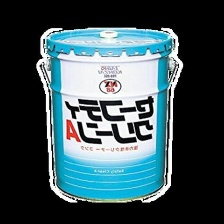cleaning_solution: (41, 24, 179, 205)
